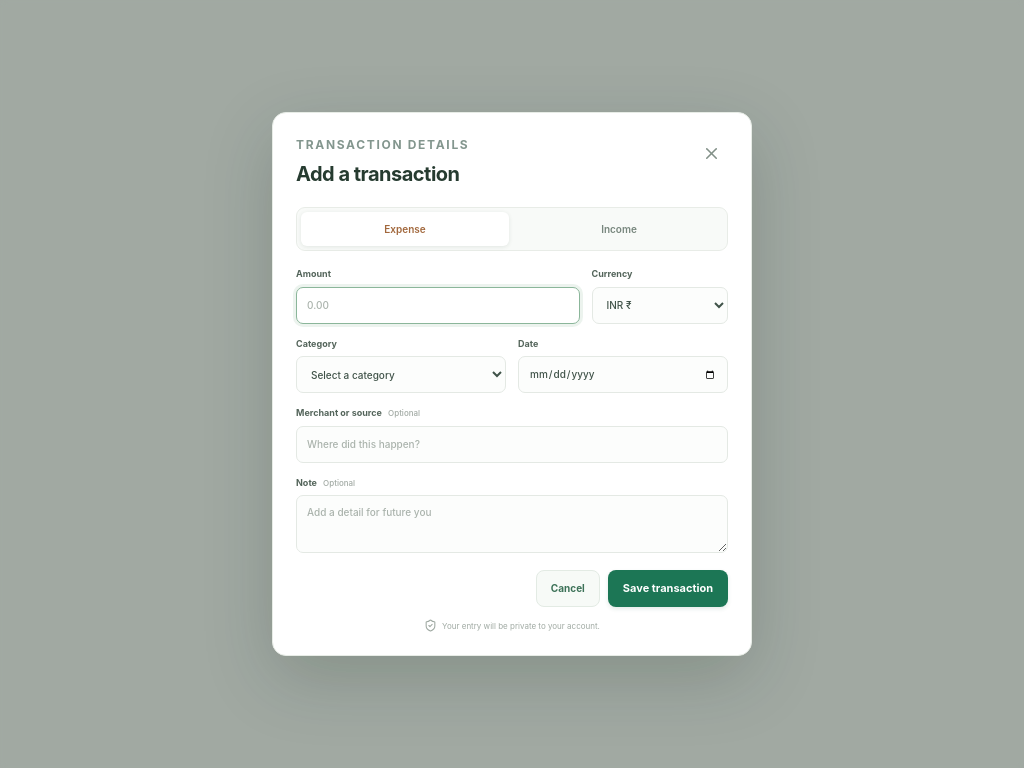
Test: transaction entry form › validates fields and clearly reports that the draft is not persisted yet
Click the button "Save transaction" at x=668, y=588, box [608,570,728,607]
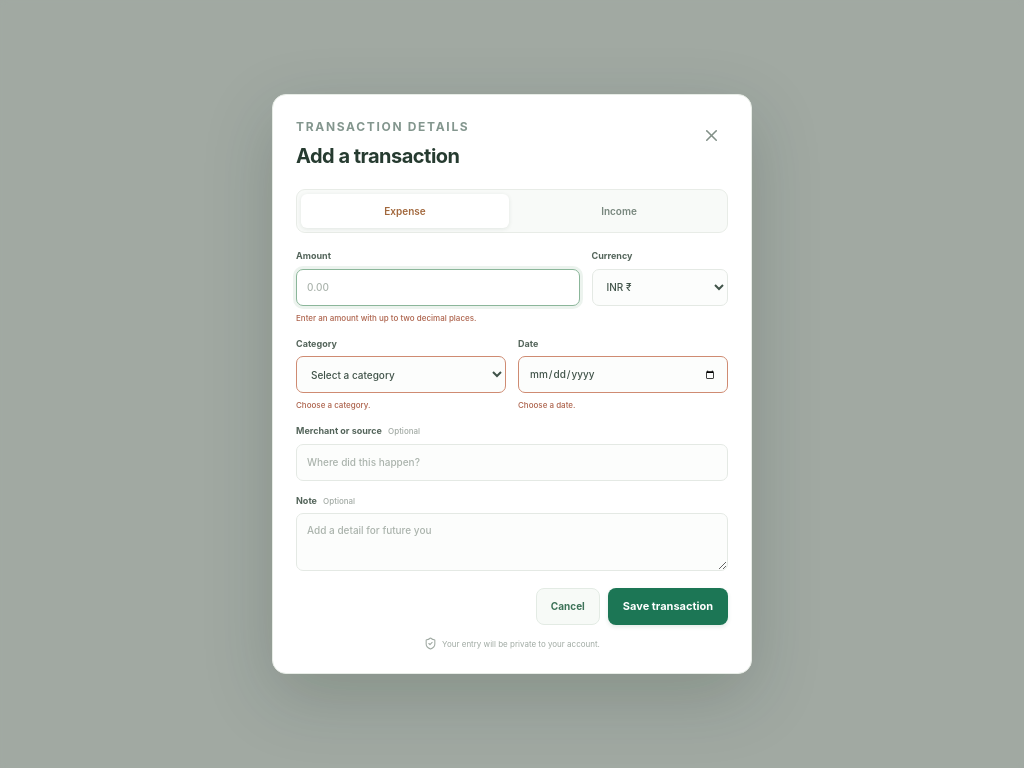
Expected: the text "Choose a category." is shown, [296,400,370,410]
Expected: the text "Choose a date." is shown, [518,400,575,410]
Type "125.50" into the field labelled "Amount Enter an amount with up to two decimal places." at x=438, y=287, box [296,268,580,306]
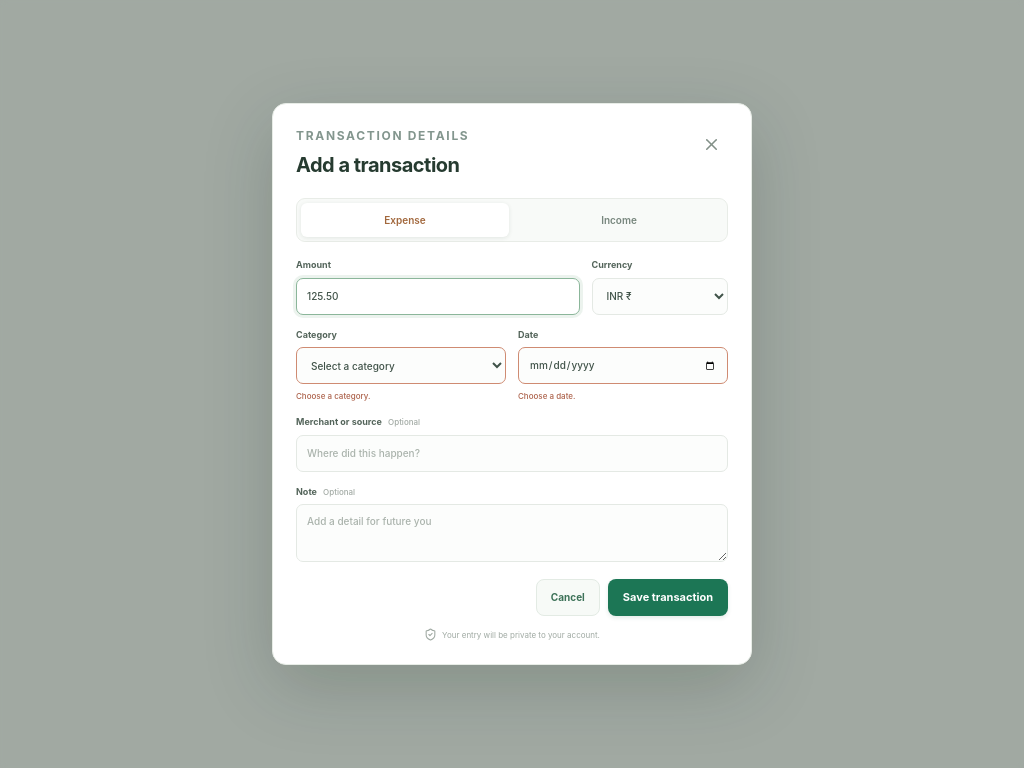
Select "Food & dining" in the dropdown labelled "Category Choose a category." at x=401, y=366, box [296,347,506,384]
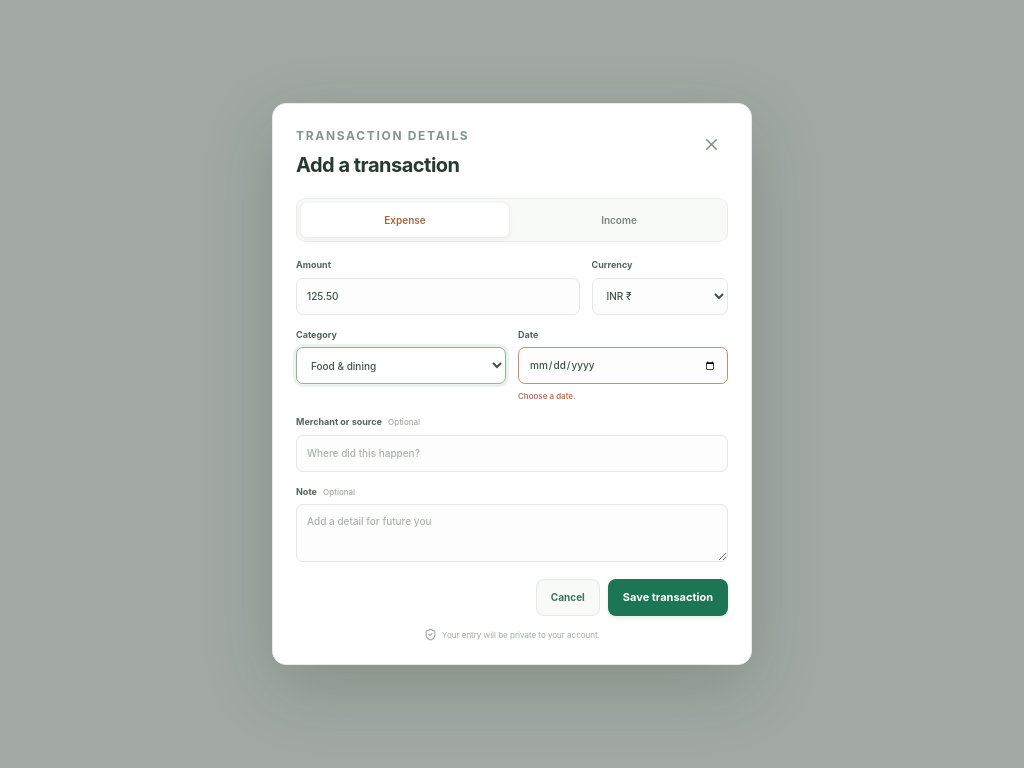
Type "2026-11-17" into the date field labelled "Date Choose a date." at x=623, y=366, box [518,347,728,384]
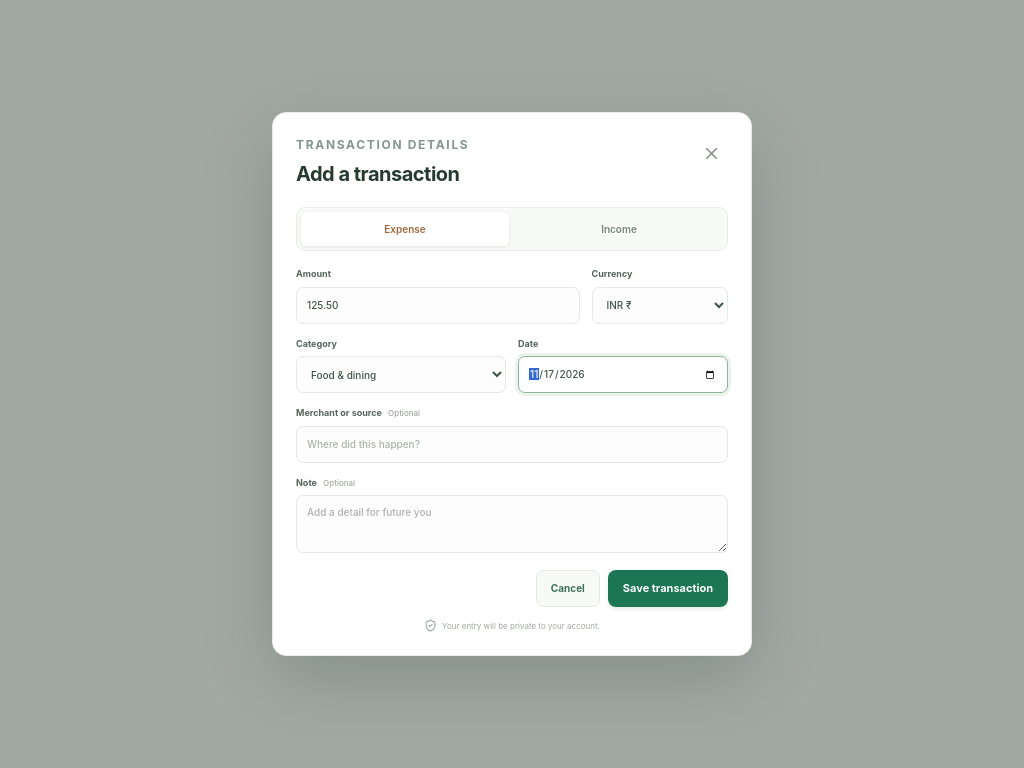
Click the button "Save transaction" at x=668, y=588, box [608,570,728,607]
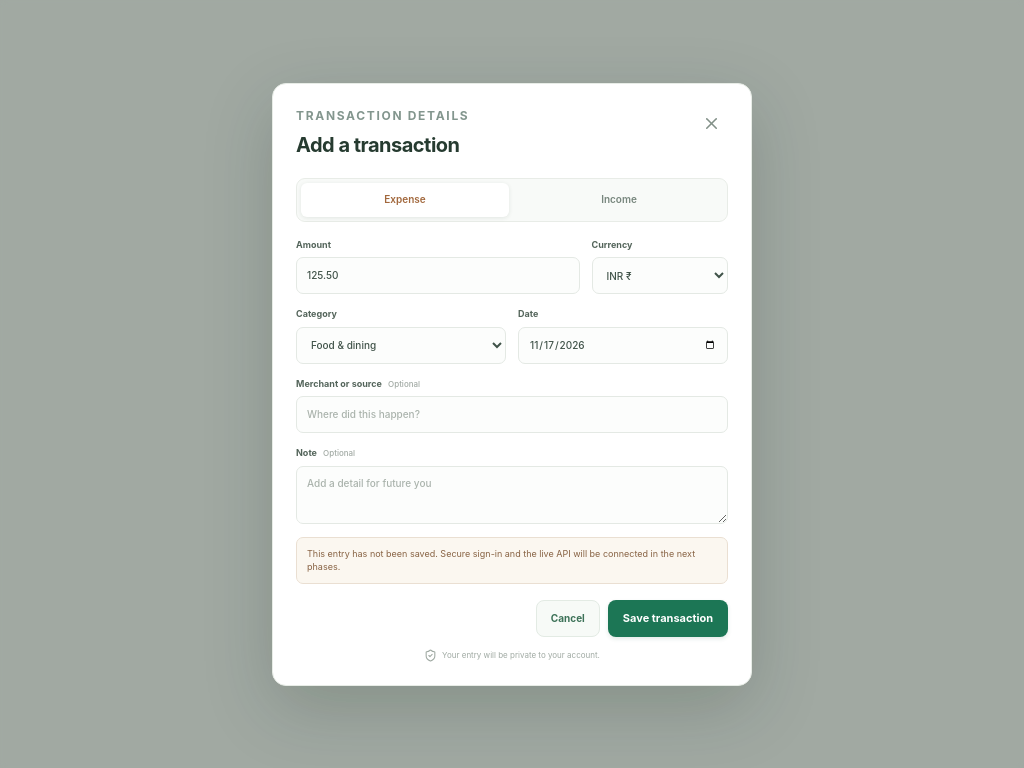
Expected: the message shows "has not been saved", [307,548,695,572]
